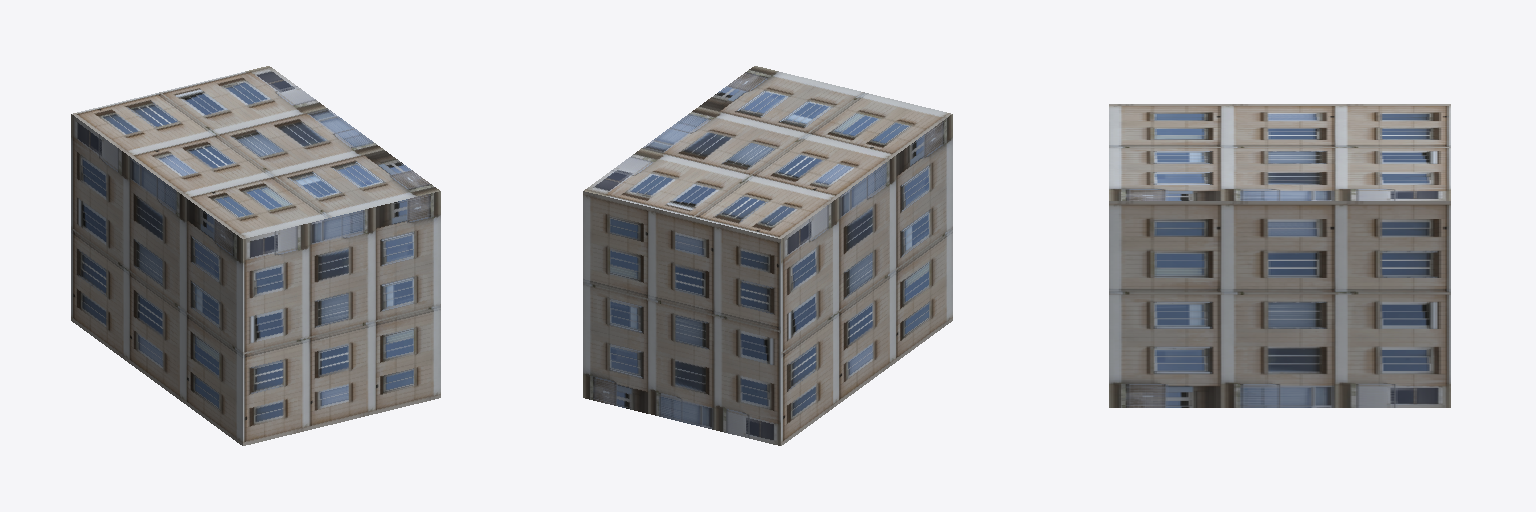
3 renders of one model, left to right at view 1: azimuth 30°, elevation 25°; view 2: azimuth 150°, elevation 25°; view 3: azimuth 270°, elevation 25°, orthographic.
Bounding box in the file's own units: 2 × 2 × 3.
Materials: 1 (1 with a texture image).